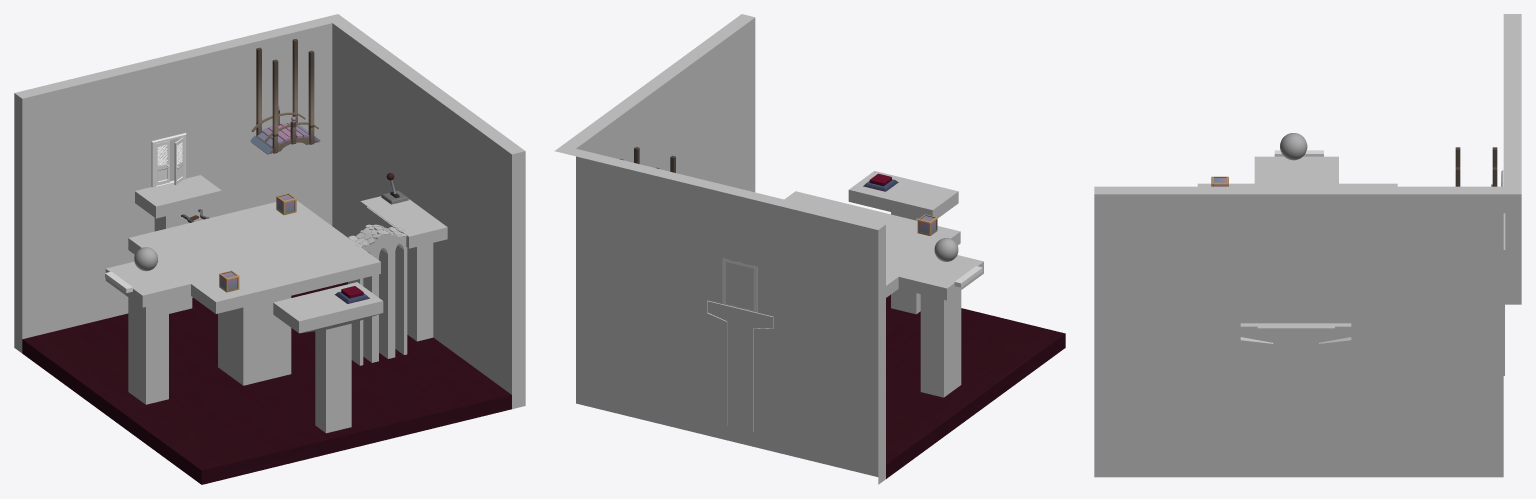
Rendered from Level1v4.fbx.
The picture shows the model from 3 angles, left to right: view 1: azimuth 30°, elevation 25°; view 2: azimuth 150°, elevation 25°; view 3: azimuth 270°, elevation 25°; orthographic projection. The views are drawn at different scales.
Visible parts, largest first — view 1: wallLeft, wallRight, wallVoid, platformMain, platformPressurePad, platformEntrance, Tiles2, platformSwitch, TreeBridgeFallDown, platformGoal, pSphere6; view 2: wallLeft, wallRight, wallVoid, platformEntrance, platformMain, platformPressurePad, pSphere6; view 3: wallRight, wallLeft, platformEntrance, drawBridge, platformMain, platformSwitch, pSphere1, TreeBridgeFallDown.
Boxes of the visible parts, box(x1,y1,x2,y2) form: wallLeft: box(14, 14, 337, 353); wallRight: box(332, 14, 525, 409); wallVoid: box(22, 282, 511, 484); platformMain: box(128, 200, 380, 385); platformPressurePad: box(273, 282, 383, 433); platformEntrance: box(105, 260, 190, 404); Tiles2: box(348, 224, 407, 365); platformSwitch: box(360, 196, 447, 341); TreeBridgeFallDown: box(250, 39, 320, 154); platformGoal: box(135, 175, 221, 313); pSphere6: box(151, 133, 186, 187); wallLeft: box(554, 148, 885, 484); wallRight: box(555, 14, 755, 192); wallVoid: box(886, 294, 1065, 478); platformEntrance: box(898, 251, 983, 397); platformMain: box(784, 191, 960, 297); platformPressurePad: box(848, 171, 958, 314); pSphere6: box(722, 258, 757, 312); wallRight: box(1094, 186, 1520, 477); wallLeft: box(1503, 14, 1521, 304); platformEntrance: box(1254, 156, 1338, 183); drawBridge: box(1257, 326, 1334, 335); platformMain: box(1197, 183, 1397, 186); platformSwitch: box(1240, 323, 1351, 343); pSphere1: box(1280, 133, 1307, 160); TreeBridgeFallDown: box(1455, 147, 1497, 186).
Size of the model in its own units: 31.06 by 23.35 by 31.12.
